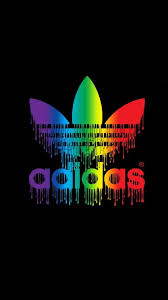adidas: (28, 75, 145, 189)
